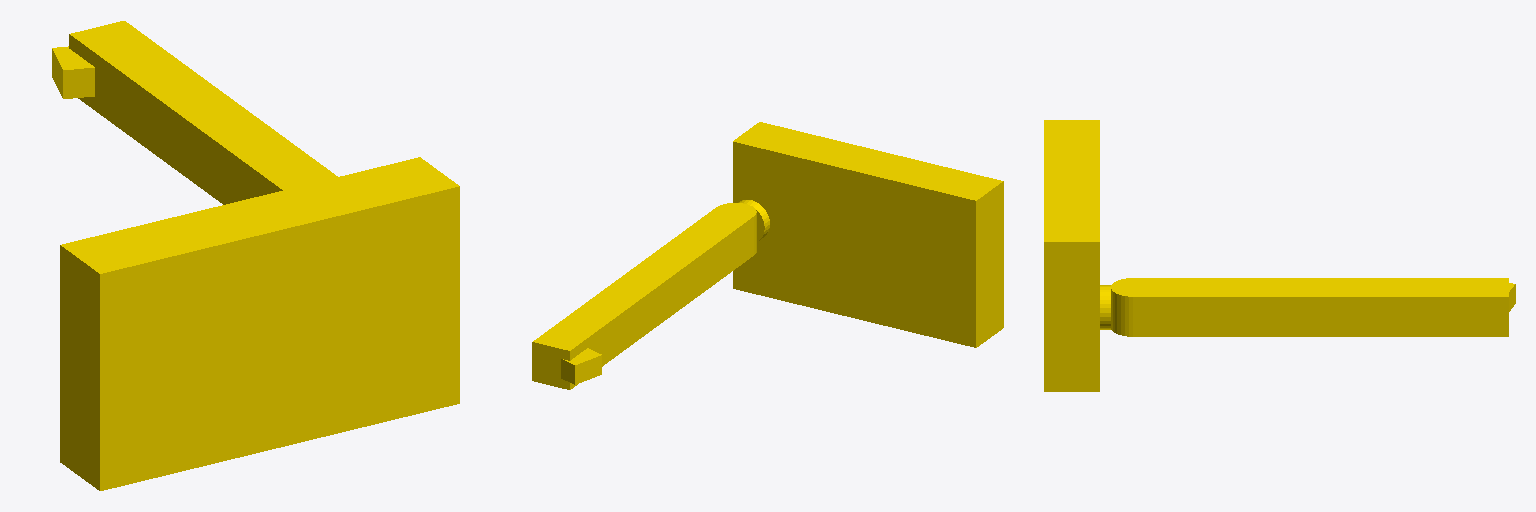
The robot description file, URDF, robot "rover_crane":
<?xml version="1.0" ?>
<robot name="rover_crane">

    <material name="black">
        <color rgba="0 0 0 1"/>
    </material>
    <material name="gold">
        <color rgba="1 0.882 0 1"/>
    </material>
    <material name="lunar_surface">
        <color rgba="0.85 0.85 0.85 1"/>
    </material>

    <link name="ground"/>
    <!-- Base -->
    <link name="rover_base_link"> 
        <visual>
            <origin xyz="0 0 0.25" rpy="0 0 0" />
            <geometry>
               <box size="2.6 1.5 0.5"/>
            </geometry>
            <material name="gold"/>
        </visual>
        <collision>
            <origin xyz="0 0 0.25" rpy="0 0 0" />
            <geometry>
                <box size="2.6 1.5 0.5"/>
            </geometry>
        </collision>   
    </link>

    <joint name="world_rotate" type="fixed">
        <parent link="ground"/>
        <child link="rover_base_link"/>
        <origin xyz="0 0 0" rpy="-1.5708 0 0"/>
    </joint>
    
    <link name="crane_yaw">
        <visual>
            <origin xyz="0 0 0.05" rpy="0 0 0" />
            <geometry>
               <cylinder length="0.1" radius="0.2"/>
            </geometry>
            <material name="gold"/>
        </visual>
        <collision>
            <origin xyz="0 0 0.05" rpy="0 0 0" />
            <geometry>
                <cylinder length="0.1" radius="0.2"/>
            </geometry>
        </collision>    
    </link>
    
    <joint name="joint0_1" type="revolute">
        <parent link="rover_base_link"/>
        <child link="crane_yaw"/>
        <origin xyz="1.1 0 0.5" rpy="0 0 0"/>
        <axis xyz="0 0 1"/>
        <limit lower="-0.523599" upper="0.523599" effort="0" velocity="0"/>
    </joint>

    <link name="crane_link1">
        <visual>
            <origin xyz="0 0 0" rpy="1.5708 0 0" />
            <geometry>
               <cylinder length="0.4" radius="0.2"/>
            </geometry>
            <material name="gold"/>
        </visual>
        <collision>
            <origin xyz="0 0 0" rpy="1.5708 0 0" />
            <geometry>
                <cylinder length="0.4" radius="0.2"/>
            </geometry>
        </collision>  

        <visual>
            <origin xyz="-1.698 0 0" rpy="0 0 0" />
            <geometry>
               <box size="3.396 0.4 0.4"/>
            </geometry>
            <material name="gold"/>
        </visual>
        <collision>
            <origin xyz="-1.698 0 0" rpy="0 0 0" />
            <geometry>
                <box size="3.396 0.4 0.4"/>
            </geometry>
        </collision>
    </link>


    <joint name="joint0_2" type="revolute">
        <parent link="crane_yaw"/> 
        <child link="crane_link1"/>
        <origin xyz="0 0 0.3" rpy="0 1.5708 0"/>
        <axis xyz="0 1 0"/>
        <limit lower="0.0" upper="1.5708" effort="0" velocity="0"/>
    </joint>


    <link name="crane_link2">
        <visual>
            <origin xyz="1.132 0 0" rpy="0 0 0" />
            <geometry>
               <box size="2.264 0.2 0.2"/>
            </geometry>
            <material name="gold"/>
        </visual>
        <collision>
            <origin xyz="1.132 0 0" rpy="0 0 0" />
            <geometry>
                <box size="2.264 0.2 0.2"/>
            </geometry>
        </collision>
    </link>

    <joint name="joint0_3" type="prismatic">
        <parent link="crane_link1"/>
        <child link="crane_link2"/>
        <origin xyz="-3.396 0 0" rpy="0 0 0"/>
        <axis xyz="-1 0 0"/>
        <limit lower="0.0" upper="2.264" effort="0" velocity="0"/>
    </joint>
    
    <link name="tip">
        <visual>
            <!-- z = (-0.17 - 0.1) -->
            <origin xyz="-0.1 0 -0.17" rpy="0 1.5708 0" />
            <geometry>
               <box size="0.34 0.2 0.2"/>
            </geometry>
            <material name="gold"/>
        </visual>
        <collision>
            <origin xyz="-0.1 0 -0.17" rpy="0 1.5708 0" />
            <geometry>
                <box size="0.34 0.2 0.2"/>
            </geometry>
        </collision>   
    </link>

    <joint name="tip_joint" type="fixed">
        <parent link="crane_link2"/>
        <child link="tip"/>
        <origin xyz="0 0 -0.1" rpy="0 -1.26165662836 0"/>
    </joint>

</robot>

--- Render facts (derived) ---
The picture shows the robot from 3 angles, left to right: view 1: azimuth 30°, elevation 25°; view 2: azimuth 150°, elevation 25°; view 3: azimuth 270°, elevation 25°; orthographic projection.
Robot: rover_crane — 6 links, 5 joints (2 revolute, 1 prismatic, 2 fixed); root link ground; default pose: all joints at 0.
Links seen in each view (by area): view 1: rover_base_link, crane_link1, tip; view 2: rover_base_link, crane_link1, tip; view 3: crane_link1, rover_base_link.
Boxes of the visible links, x1,y1,x2,y2 form: rover_base_link: [60, 157, 459, 490]; crane_link1: [69, 21, 337, 204]; tip: [52, 46, 94, 98]; rover_base_link: [733, 122, 1003, 347]; crane_link1: [532, 203, 756, 389]; tip: [561, 348, 601, 384]; crane_link1: [1111, 278, 1508, 336]; rover_base_link: [1044, 120, 1099, 391].
Size in the robot's own frame: 2.6 by 4.26 by 1.5 metres.
Geometry: primitives only (box / cylinder / sphere), no mesh files.